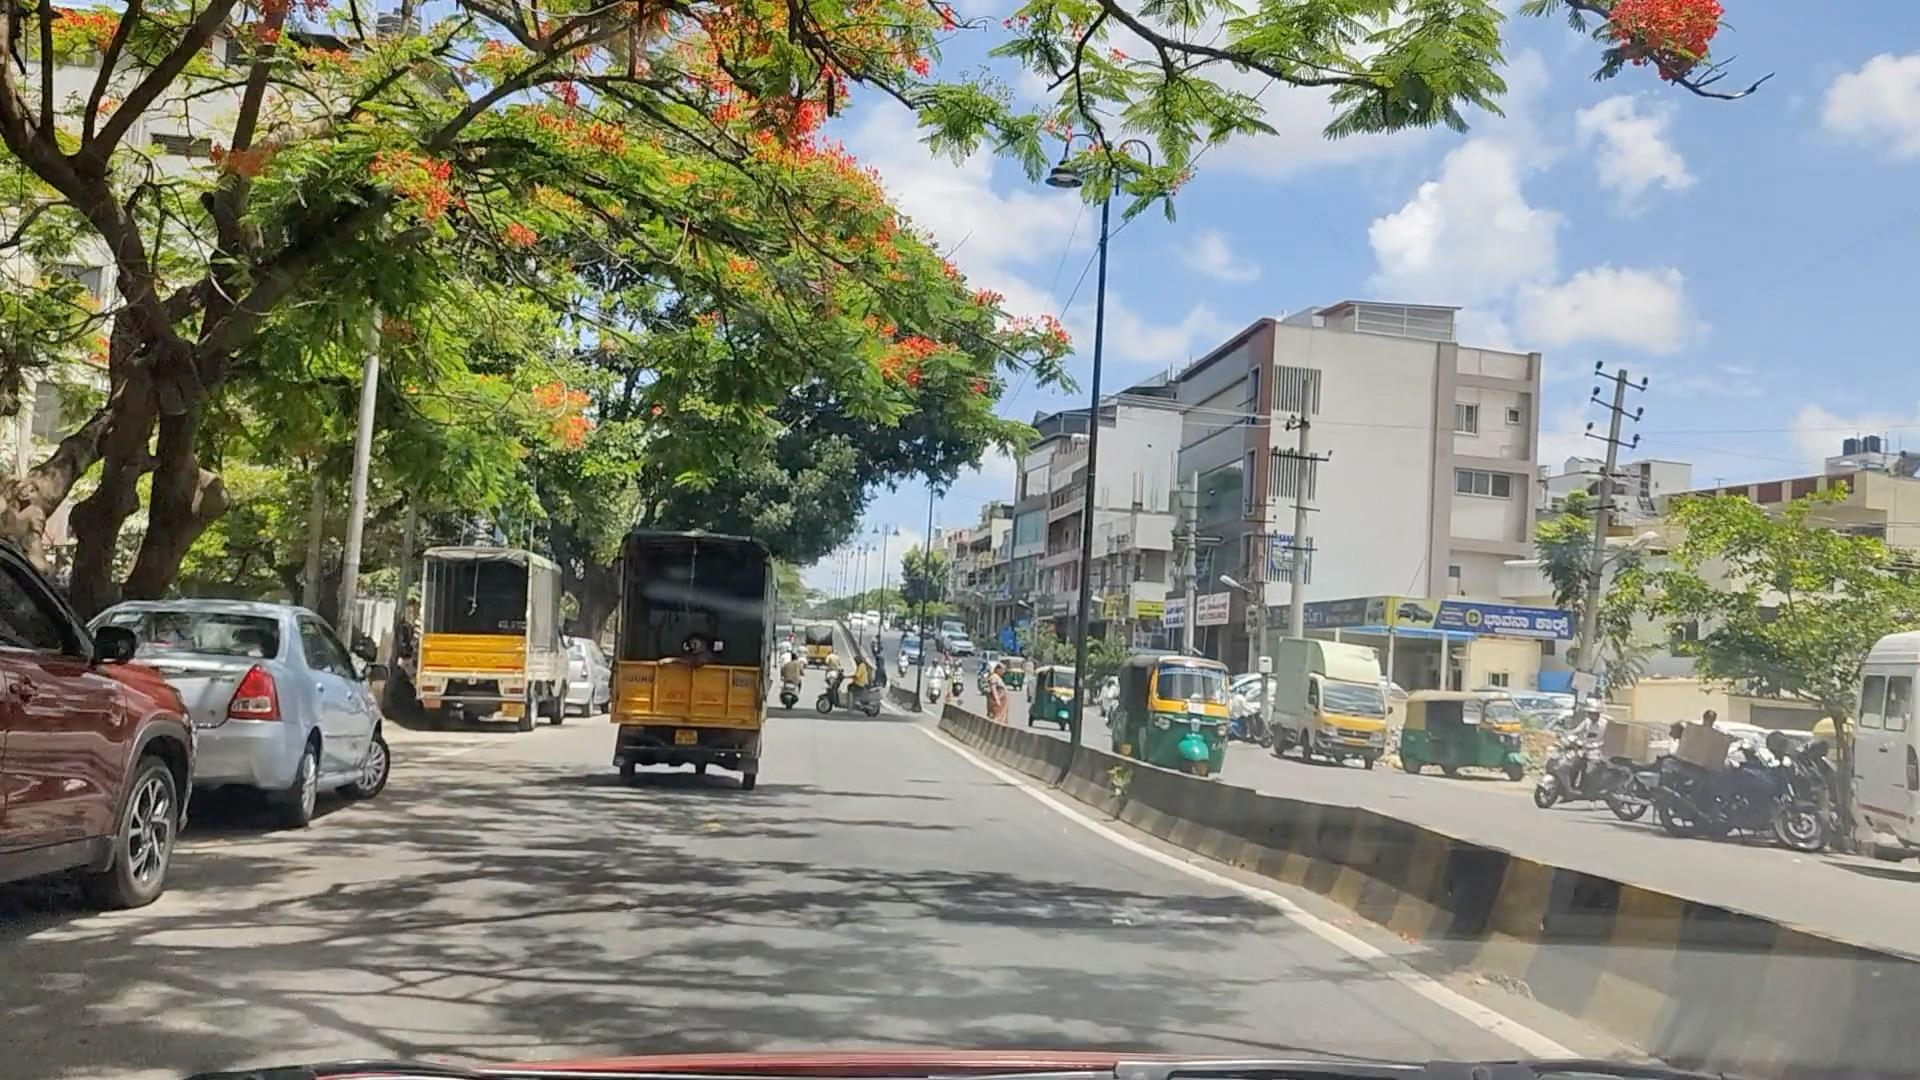HMV: (607, 500, 766, 780), (387, 530, 549, 732)
